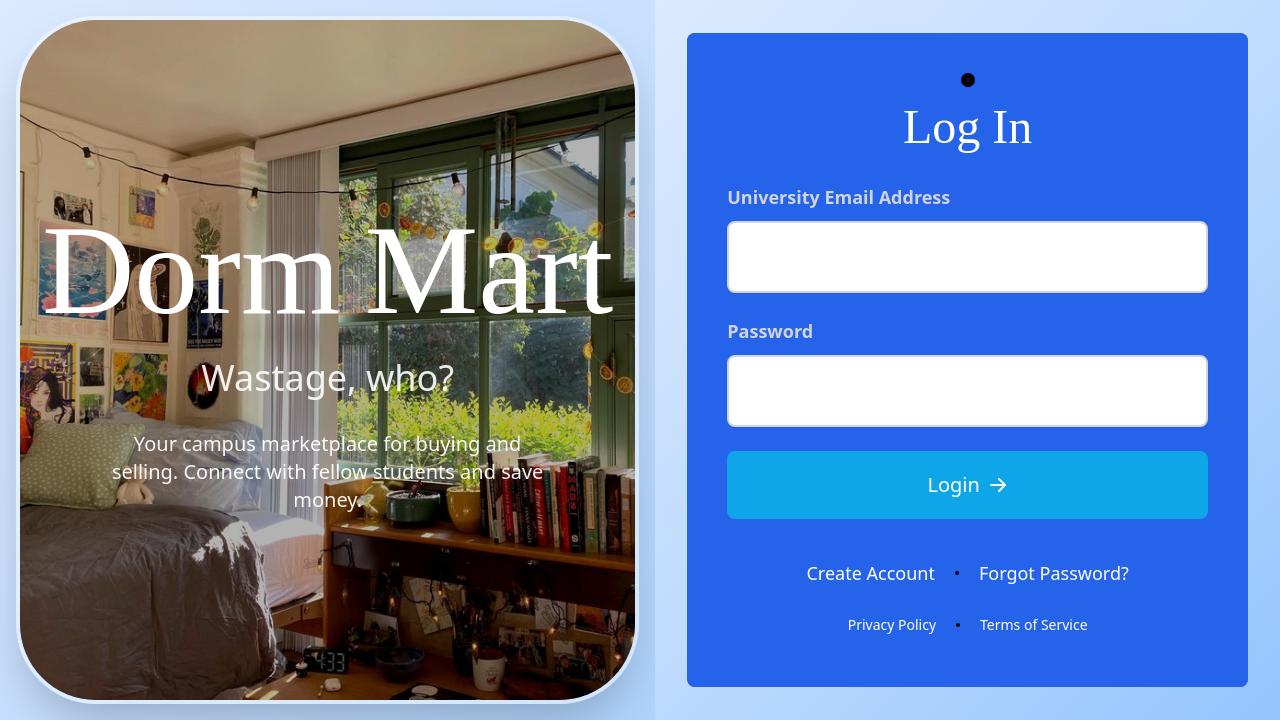
Test: lets the user leave the verification-code step
Type "sameer@buffalo.edu" into the field labelled "University Email Address".
click(968, 257); type("sameer@buffalo.edu")  # box [727,221,1208,293]
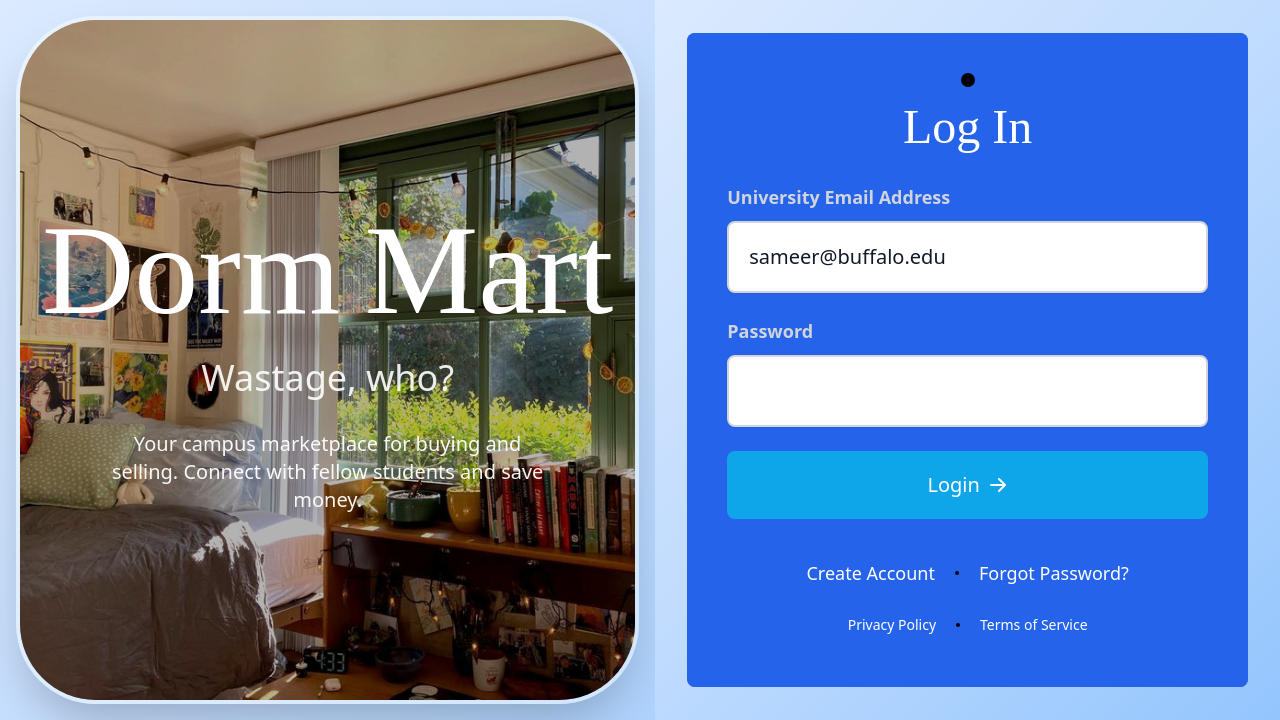
Type "Password1!" into the password field labelled "Password".
click(968, 391); type("Password1!")  # box [727,355,1208,427]
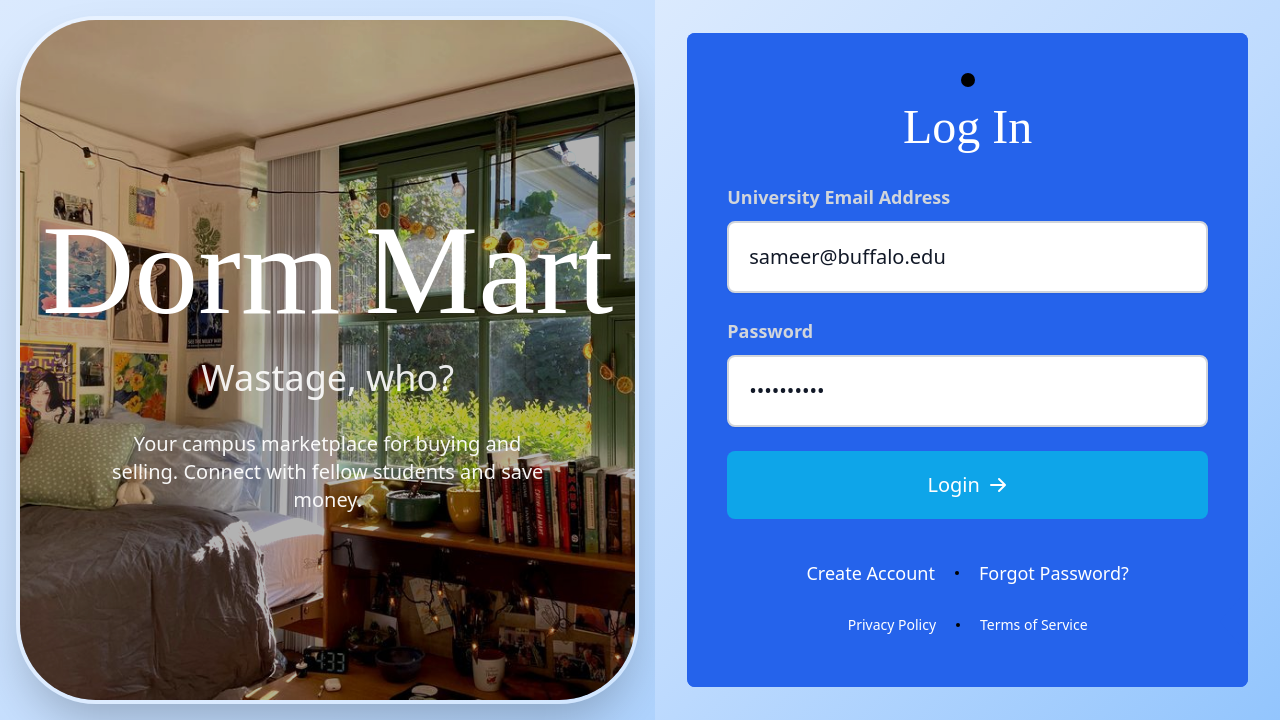
Click the button "Login".
click(968, 485)  # box [727,451,1208,519]
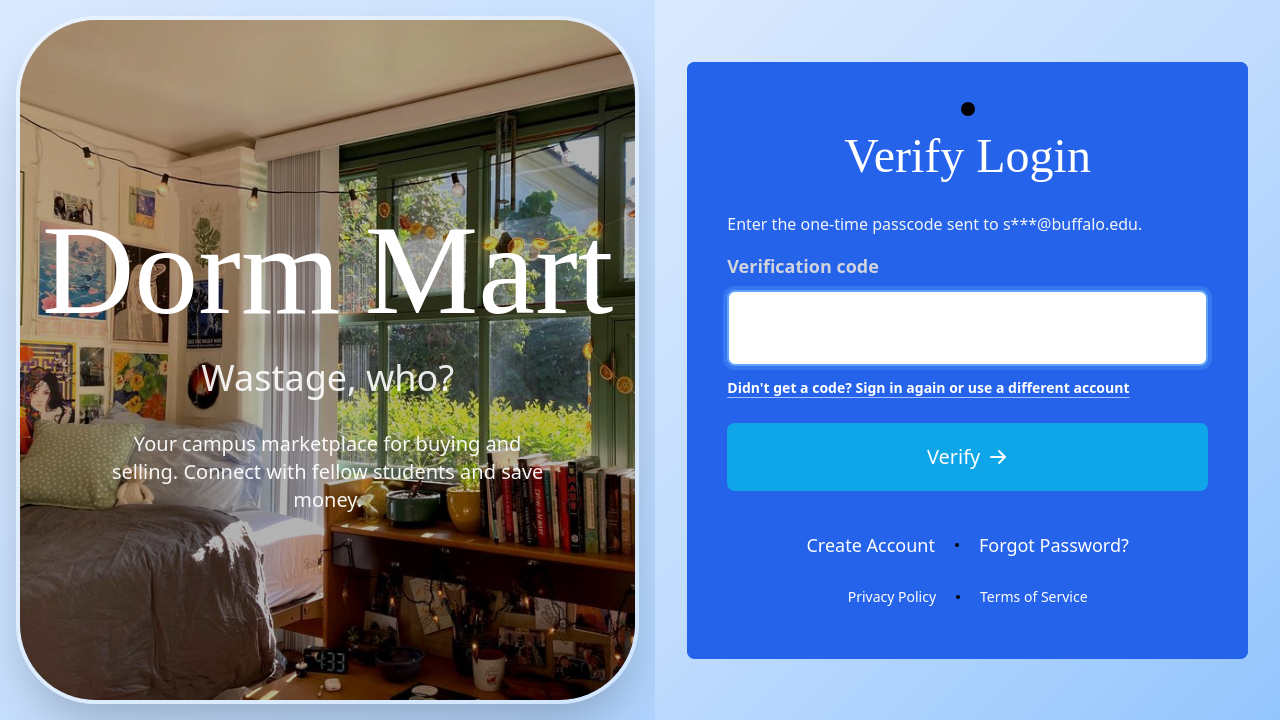
Expected: the field labelled "Verification code" is shown, [727,290,1208,366]
Click the button "Didn't get a code? Sign in again or use a different account".
click(928, 388)  # box [727,378,1130,398]
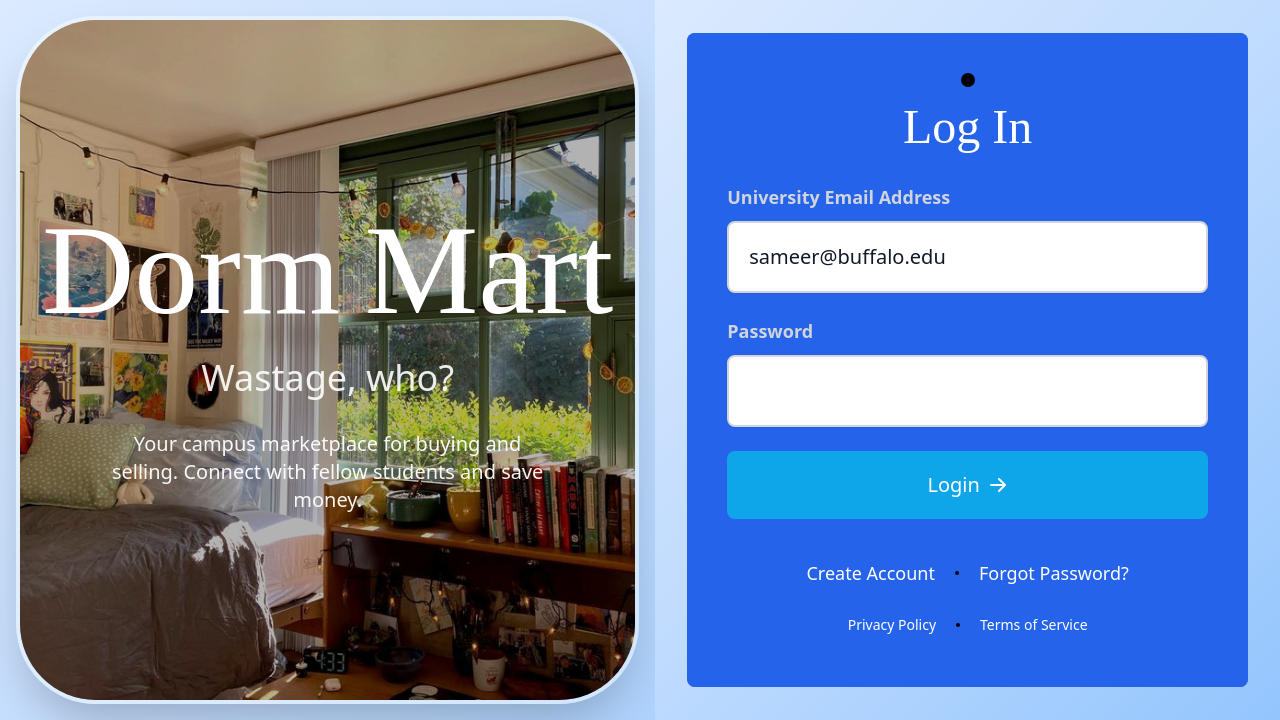
Expected: the field labelled "University Email Address" is shown, [727,221,1208,293]
Expected: the label labelled "Verification code" is gone
